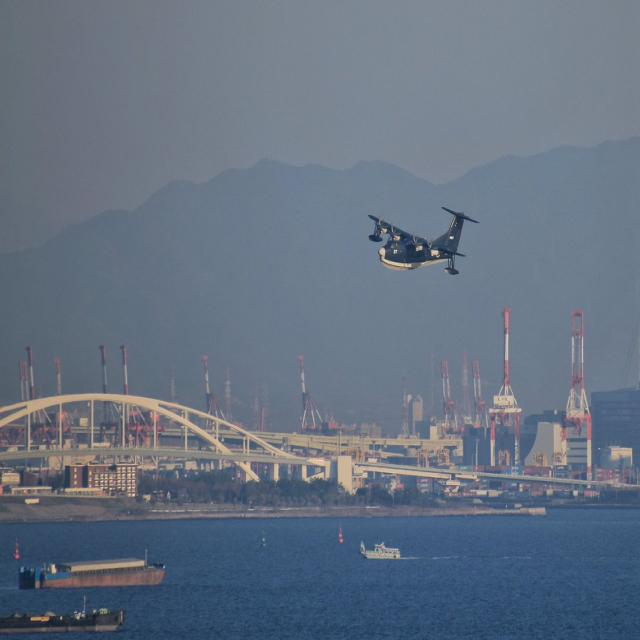MIL_Plane: (367, 206, 480, 276)
